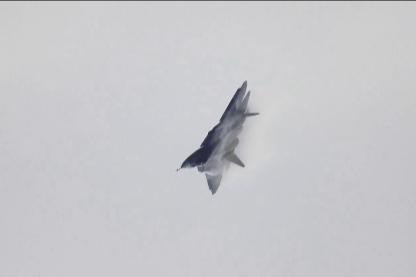SR71: (175, 79, 259, 194)
